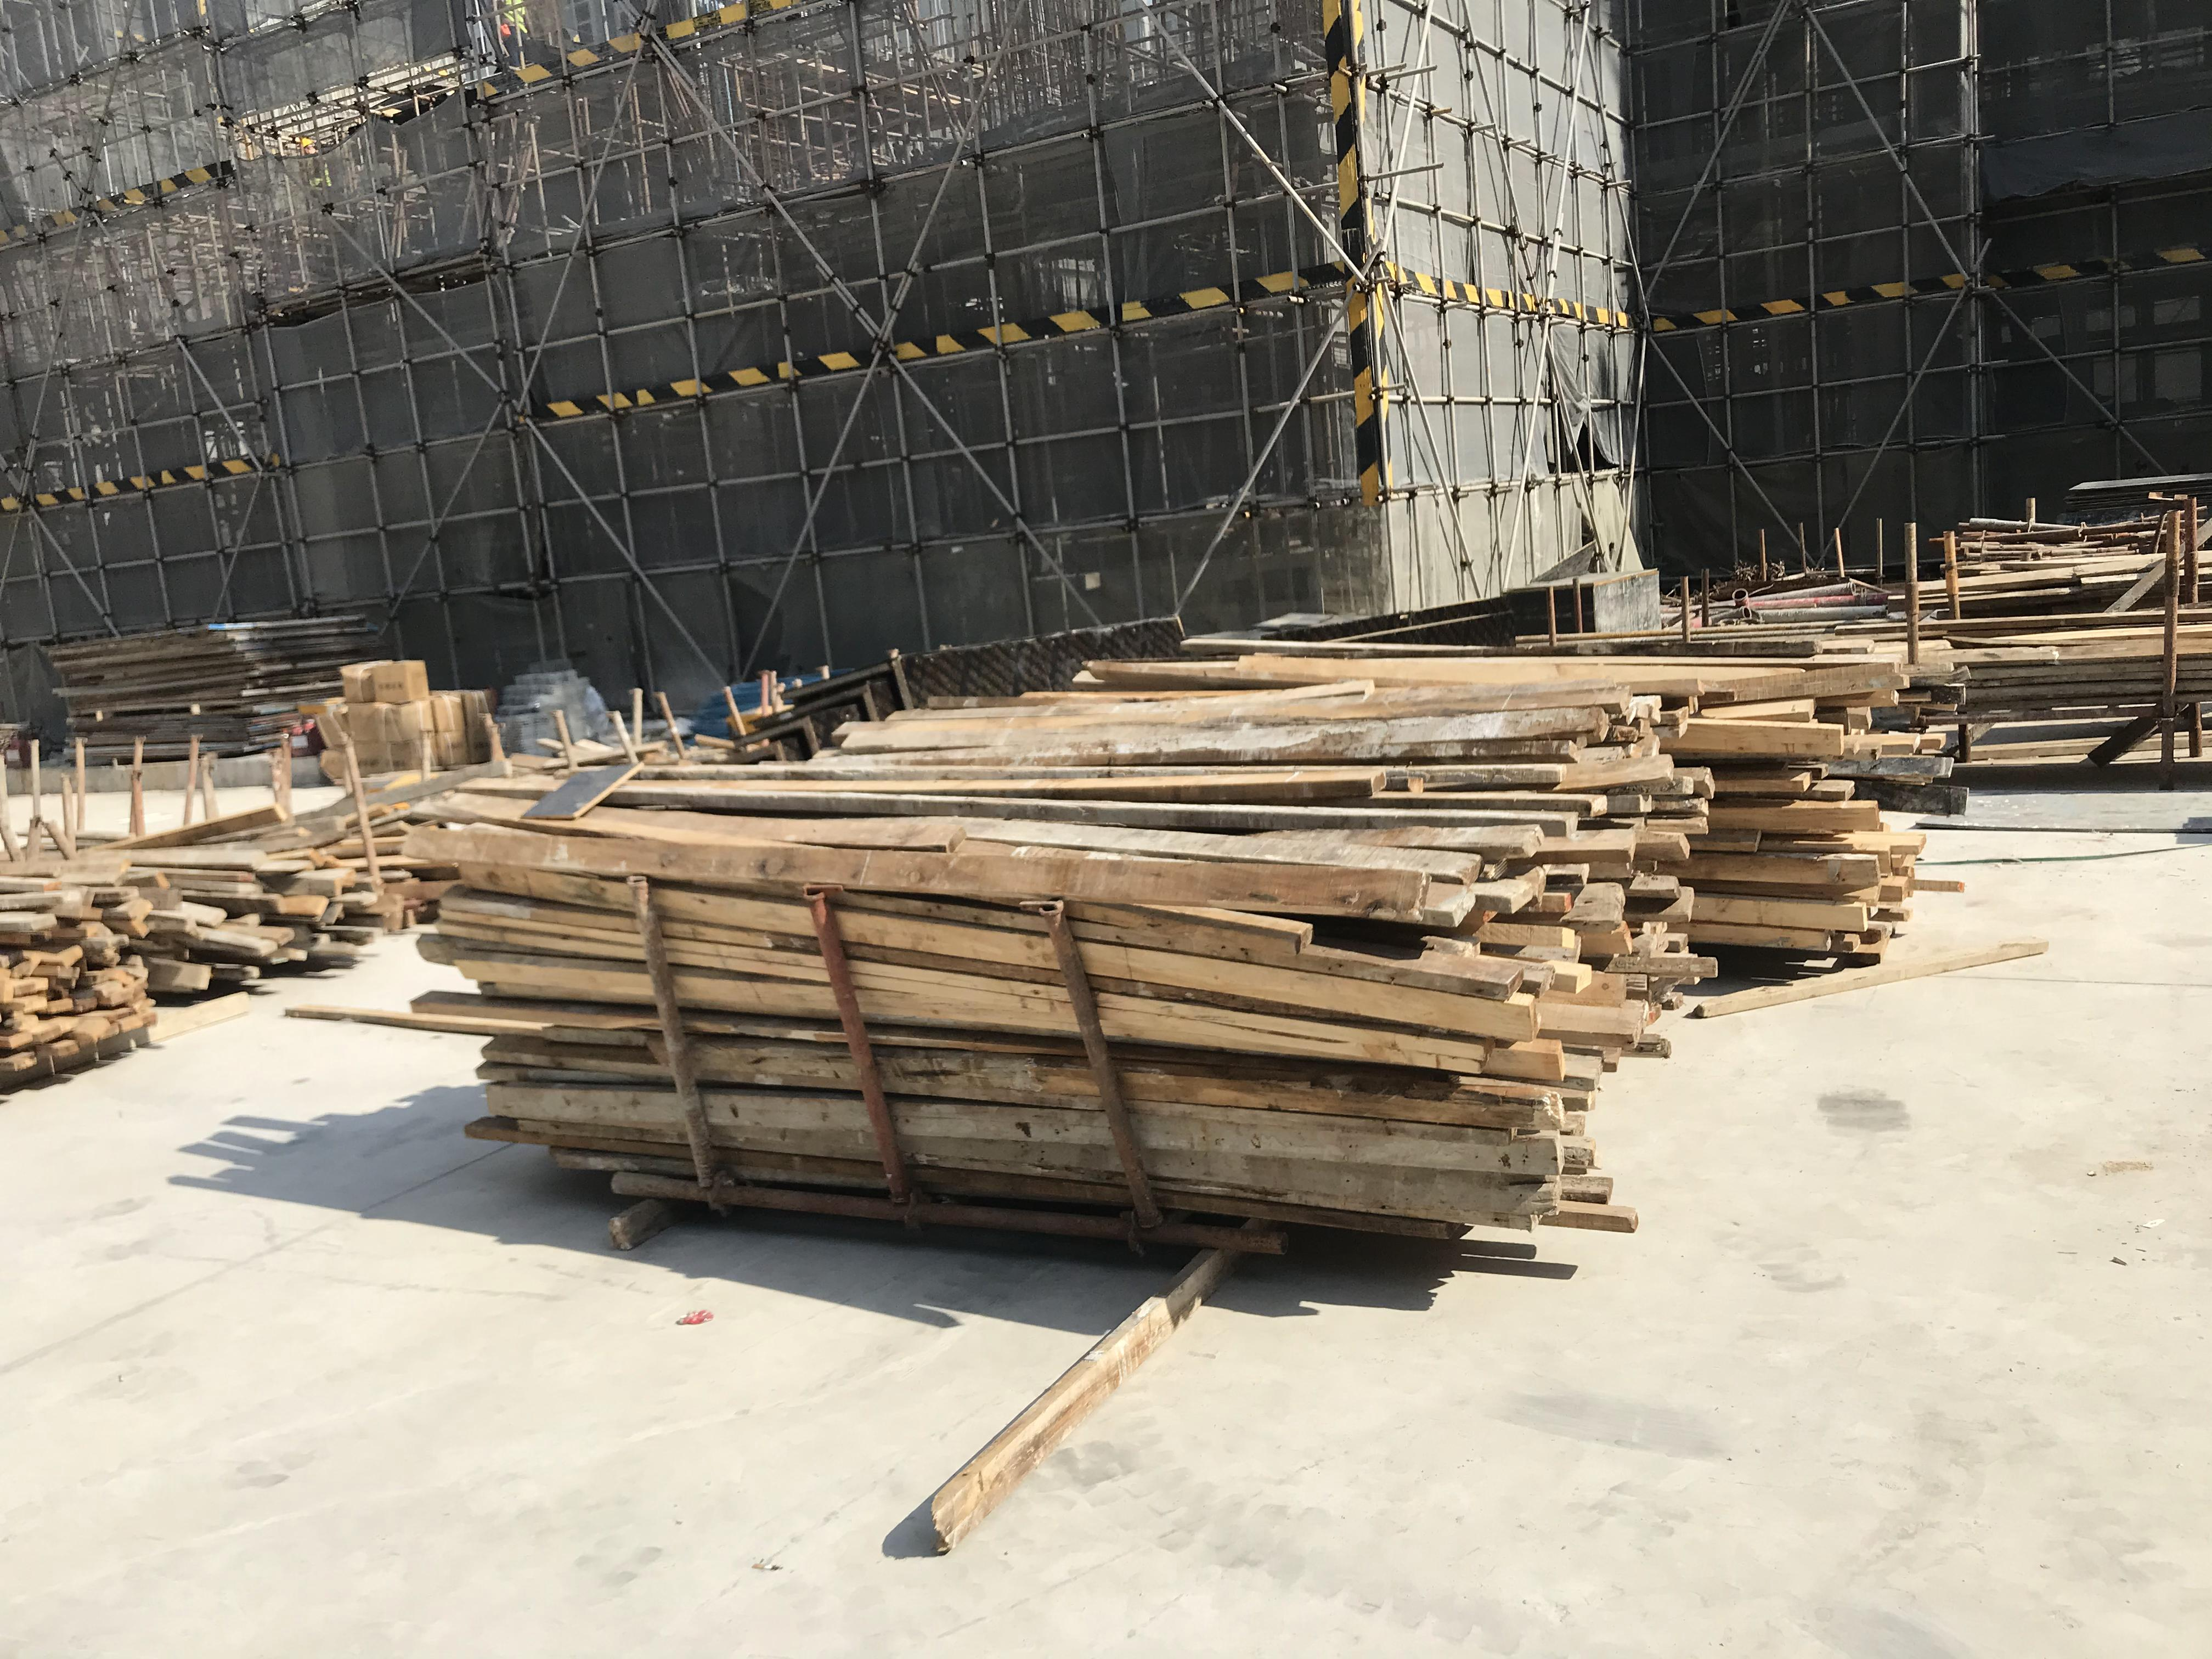board: (49, 612, 381, 751)
wood: (421, 638, 1905, 1284), (0, 816, 336, 1101), (1965, 617, 2212, 795)
